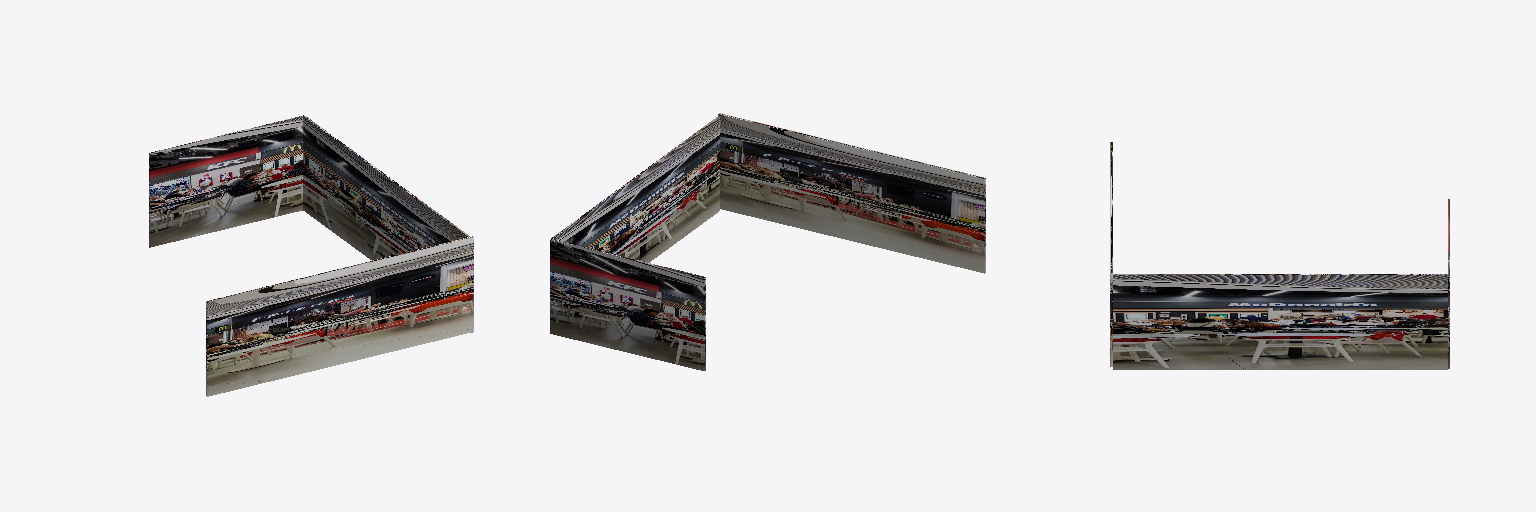
3 views of the same model, side by side, from view 1: azimuth 30°, elevation 25°; view 2: azimuth 150°, elevation 25°; view 3: azimuth 270°, elevation 25° (orthographic).
Visible parts, largest first — view 1: Box072, Box071, Box073; view 2: Box072, Box071, Box073; view 3: Box073, Box072.
Boxes of the visible parts, x1=… form: Box072: x1=206, y1=236, x2=473, y2=396; Box071: x1=149, y1=115, x2=303, y2=247; Box073: x1=303, y1=116, x2=472, y2=332; Box072: x1=718, y1=113, x2=985, y2=273; Box071: x1=550, y1=239, x2=705, y2=370; Box073: x1=551, y1=117, x2=719, y2=262; Box073: x1=1113, y1=274, x2=1447, y2=369; Box072: x1=1110, y1=142, x2=1112, y2=366.
Bounding box in the file's own units: 223 × 77.02 × 245.
Materials: 3 (3 with a texture image).